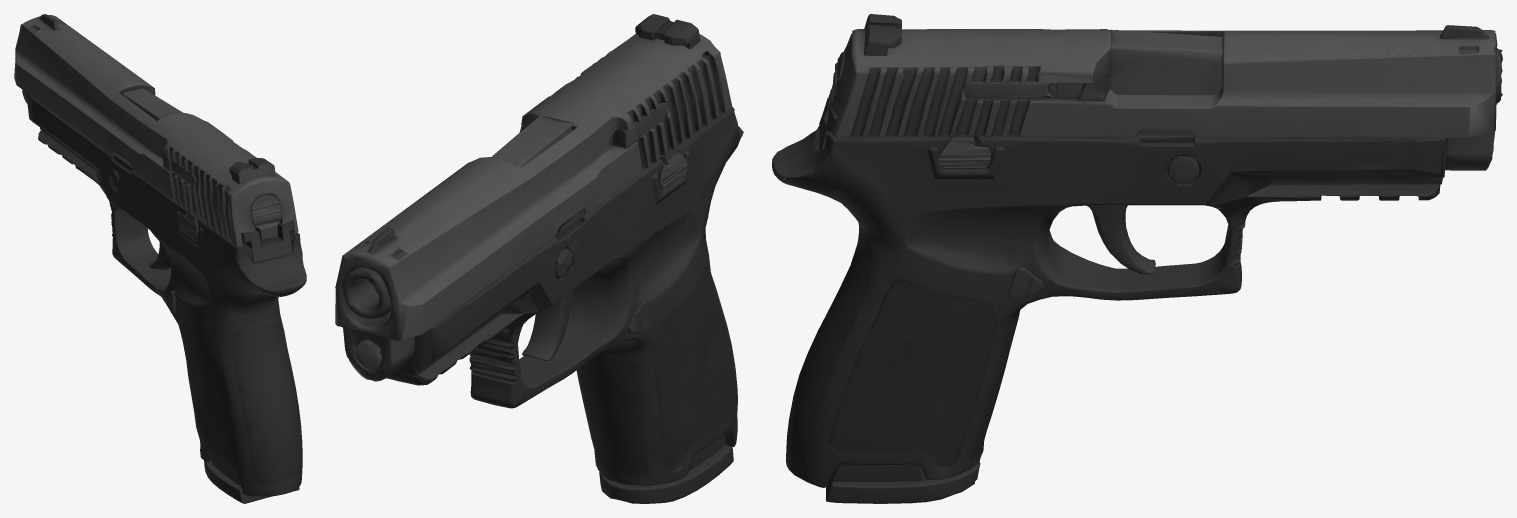
3 renders of one model, left to right at view 1: azimuth 30°, elevation 25°; view 2: azimuth 150°, elevation 25°; view 3: azimuth 270°, elevation 25°, orthographic. The views are drawn at different scales.
Visible parts, largest first — view 1: govde; view 2: govde; view 3: govde.
Boxes of the visible parts, left/top/right/bottom form: govde: left=14, top=14, right=306, bottom=503; govde: left=335, top=14, right=743, bottom=503; govde: left=772, top=14, right=1502, bottom=503.
Bounding box in the file's own units: 0.0332 × 0.1374 × 0.198.
Materials: 1 (1 with a texture image).
